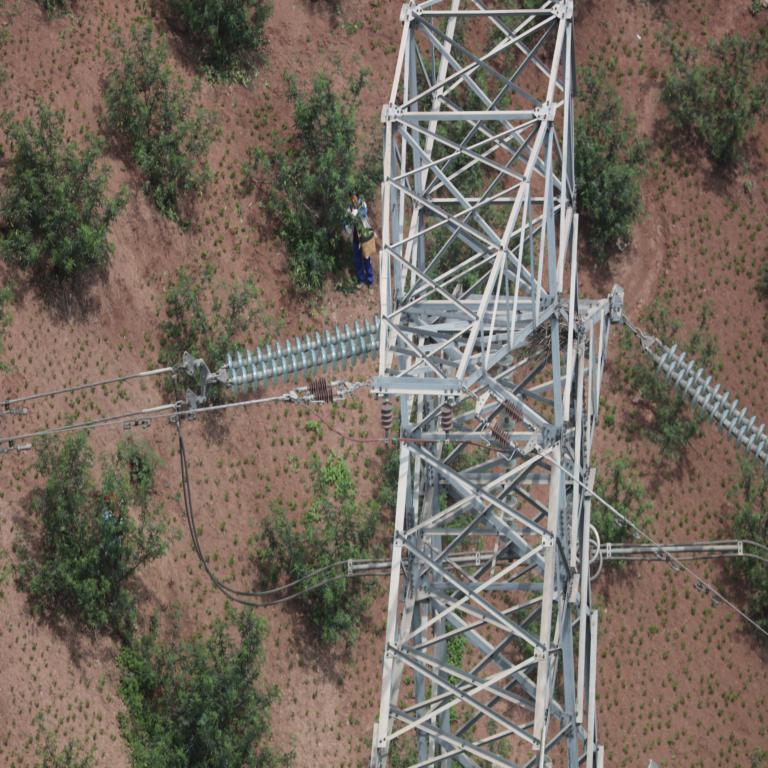nest: (528, 314, 580, 352)
